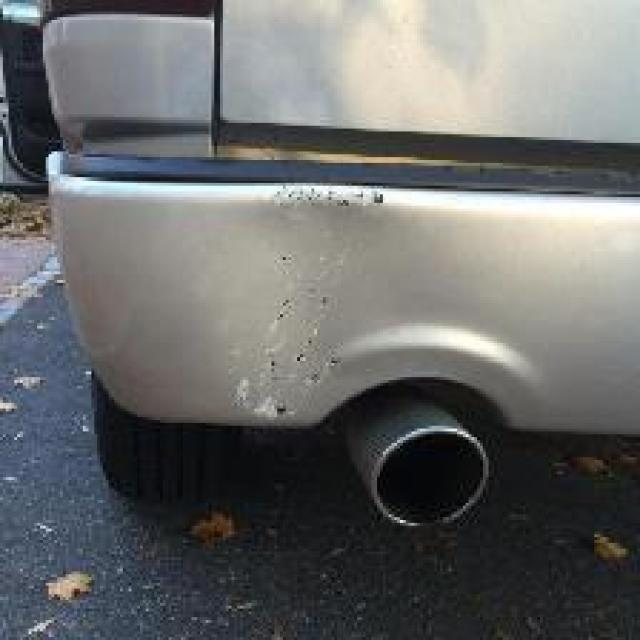damaged: (228, 177, 398, 443)
